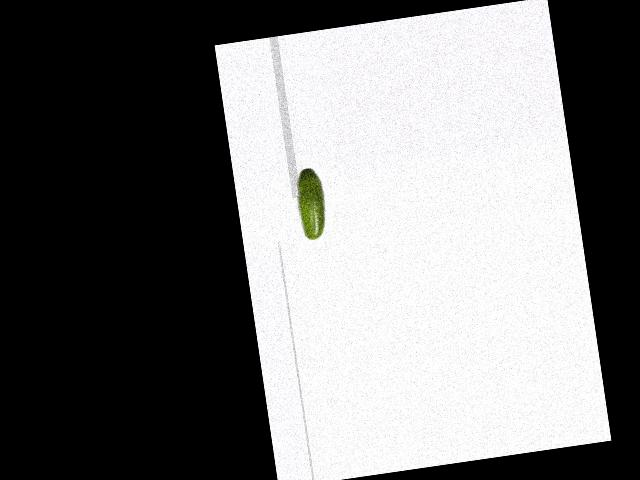cucumber: (292, 165, 330, 241)
